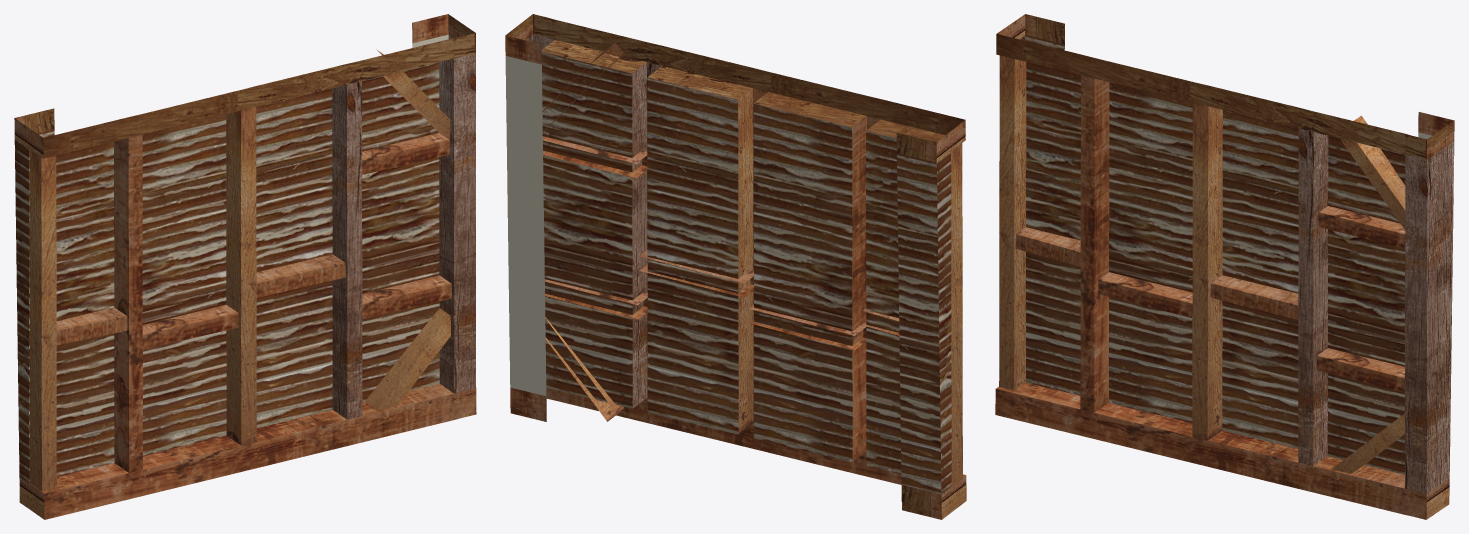
File: SP_Wall2.fbx
3 views of the same model, side by side, from view 1: azimuth 30°, elevation 25°; view 2: azimuth 150°, elevation 25°; view 3: azimuth 330°, elevation 25° (orthographic).
Visible parts, largest first — view 1: SP_Wall2; view 2: SP_Wall2; view 3: SP_Wall2.
Part boxes in pixels (x1=…): SP_Wall2: x1=14, y1=14, x2=476, y2=519; SP_Wall2: x1=505, y1=14, x2=966, y2=519; SP_Wall2: x1=995, y1=14, x2=1454, y2=519.
Size of the model in its own units: 354 by 299 by 42.77.
